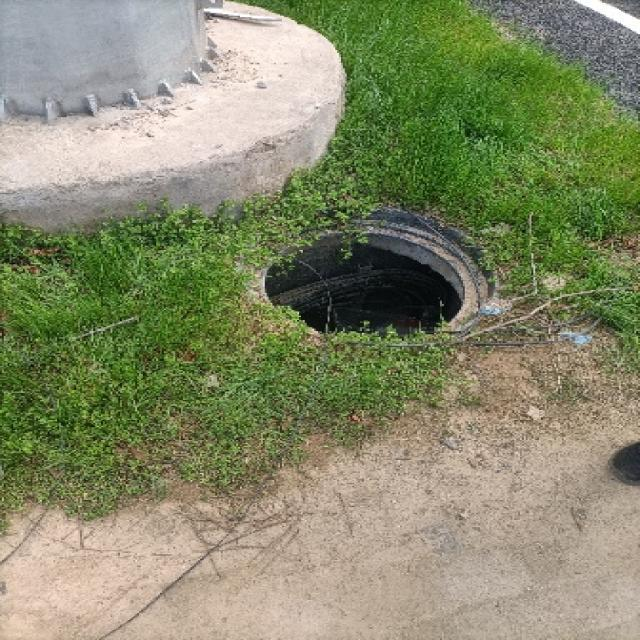Faulty: (235, 193, 502, 361)
